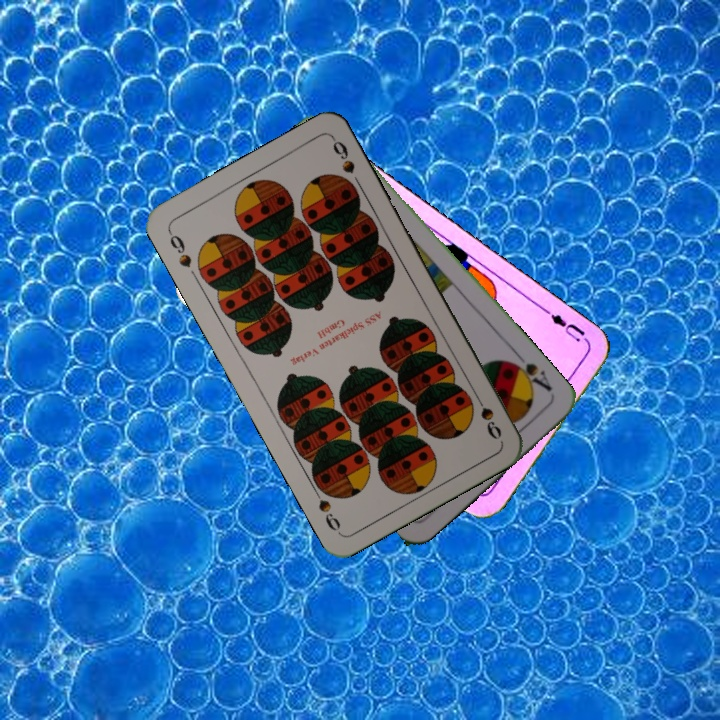EU: (541, 306, 588, 345)
S9: (469, 388, 505, 443), (164, 226, 194, 271)
SA: (505, 349, 555, 395)
